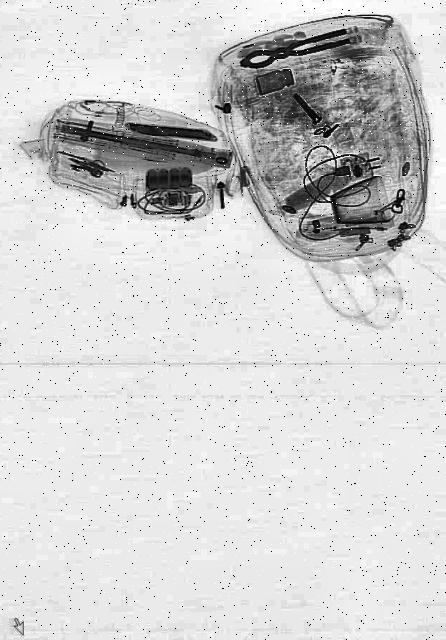Pliers: (239, 28, 353, 74)
